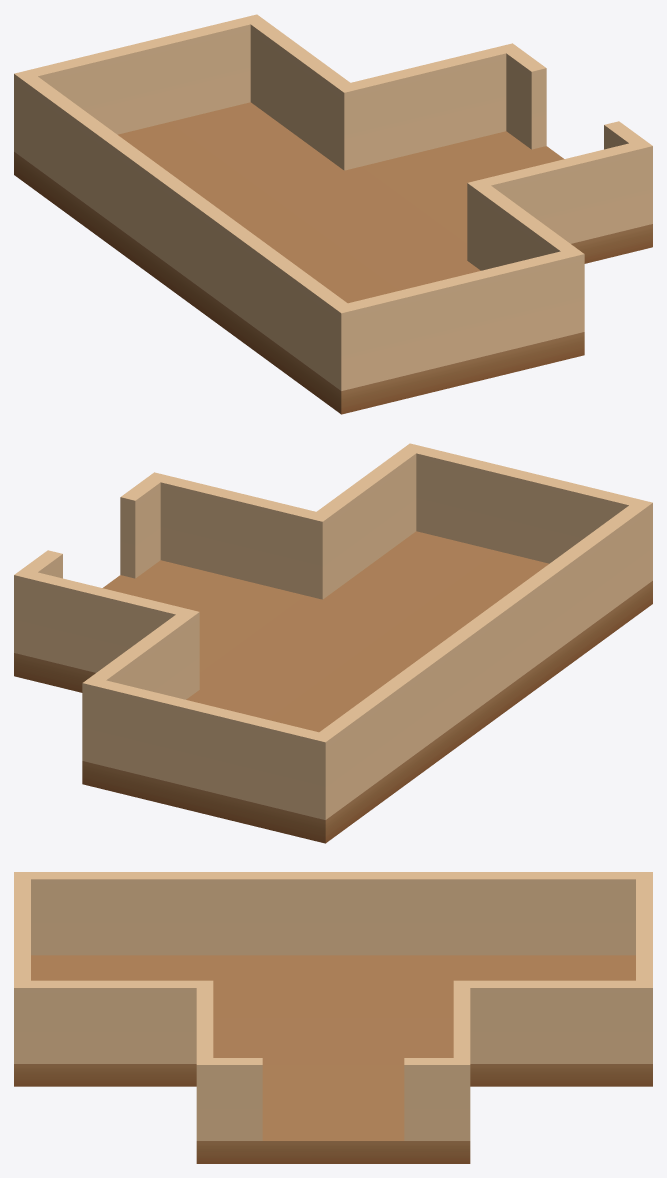
Rendered from Fundaments_3_2.fbx.
The picture shows the model from 3 angles, top to bottom: view 1: azimuth 30°, elevation 25°; view 2: azimuth 150°, elevation 25°; view 3: azimuth 270°, elevation 25°; orthographic projection. The views are drawn at different scales.
Parts seen in each view (by area): view 1: Fundaments_3_2; view 2: Fundaments_3_2; view 3: Fundaments_3_2.
Boxes of the visible parts, left/top/right/bottom form: Fundaments_3_2: left=14, top=14, right=652, bottom=414; Fundaments_3_2: left=14, top=443, right=652, bottom=843; Fundaments_3_2: left=14, top=872, right=652, bottom=1163.
Bounding box in the file's own units: 1000 × 239 × 1400.
